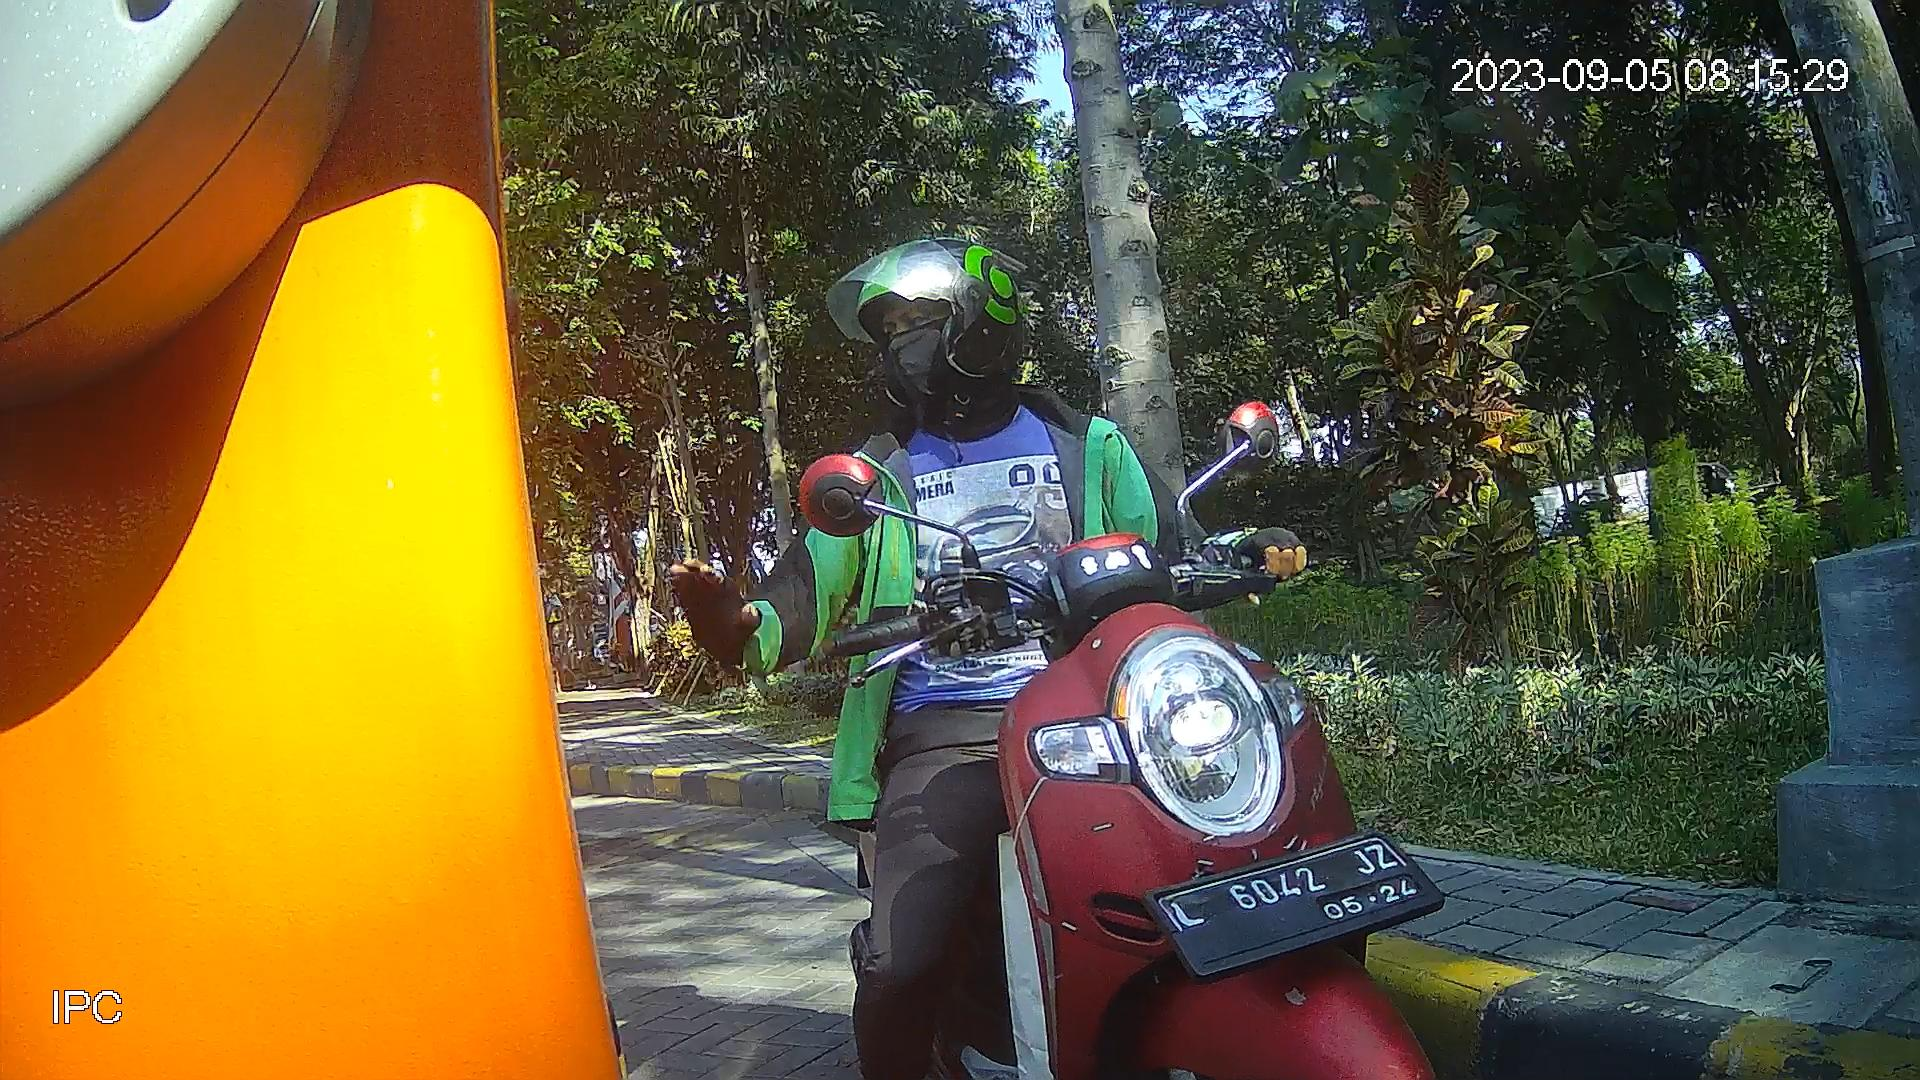plat: (1139, 829, 1451, 984)
